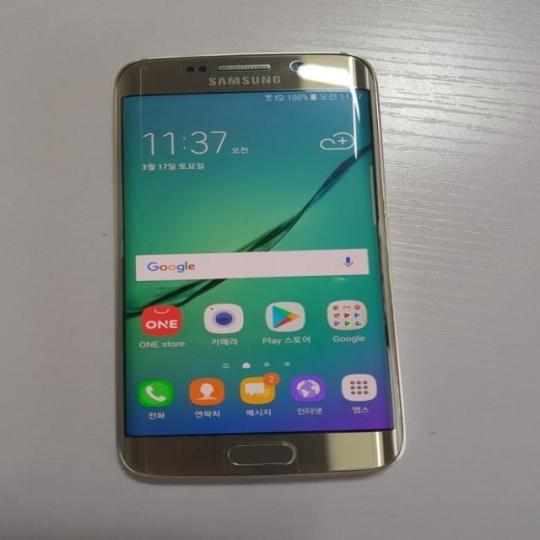phone: (98, 43, 410, 485)
